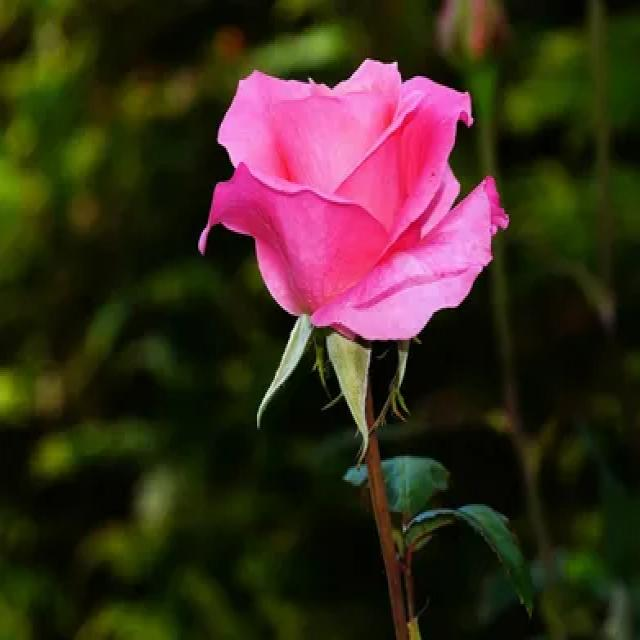rose: (194, 31, 516, 374)
